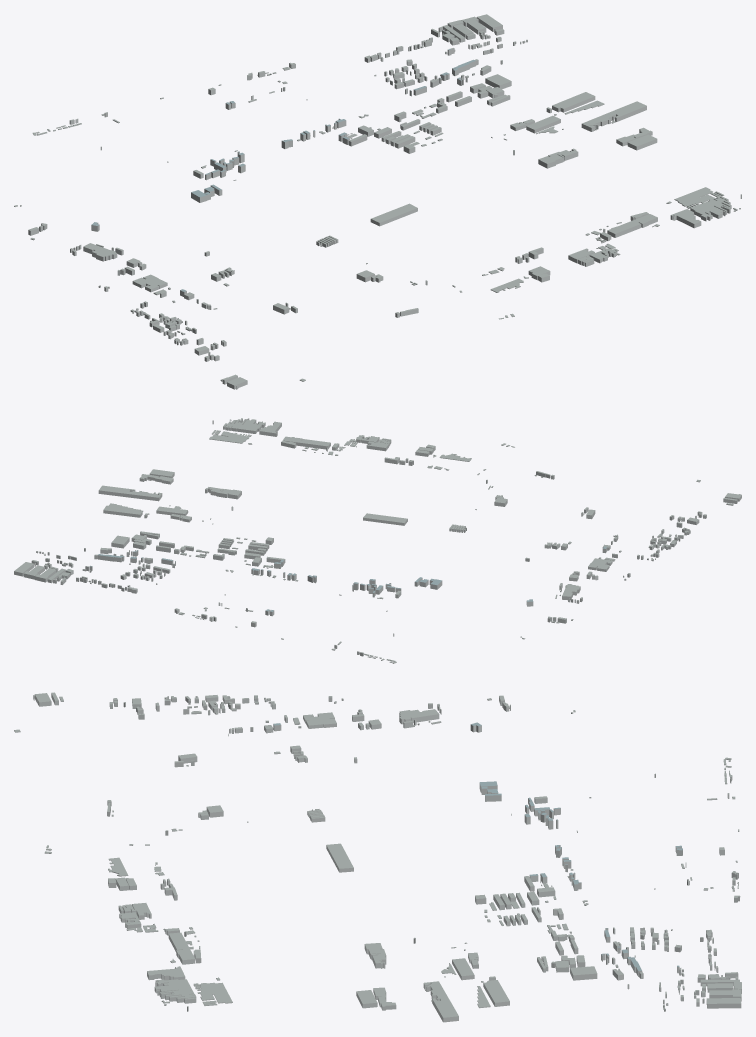
Rendered from far.glb.
The picture shows the model from 3 angles, top to bottom: view 1: azimuth 30°, elevation 25°; view 2: azimuth 150°, elevation 25°; view 3: azimuth 270°, elevation 25°; orthographic projection. The views are drawn at different scales.
Size of the model in its own units: 2188 by 27.5 by 2069.
